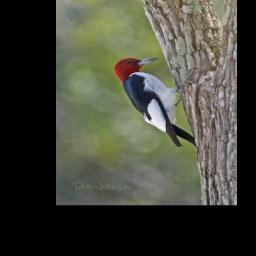Woodpecker: (110, 53, 201, 149)
